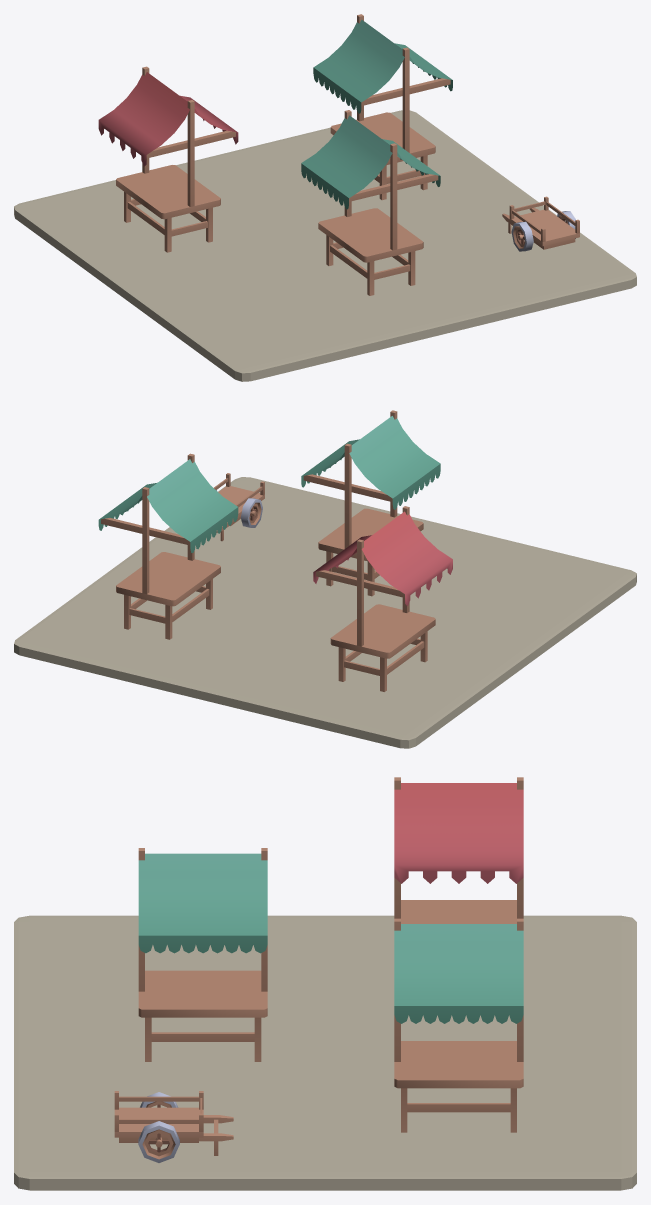
Rendered from market.glb.
3 views of the same model, one above another, from view 1: azimuth 30°, elevation 25°; view 2: azimuth 150°, elevation 25°; view 3: azimuth 270°, elevation 25° (orthographic). The views are drawn at different scales.
Visible parts, largest first — view 1: market court, stall-green.002, stall-red.001, stall-green.001, cart.001, Group.003; view 2: market court, stall-green.001, stall-red.001, stall-green.002, cart.001, Group.003; view 3: market court, stall-green.002, stall-green.001, stall-red.001, cart.001, Group.002.
Boxes of the visible parts, x1=… form: market court: x1=14, y1=110, x2=636, y2=381; stall-green.002: x1=301, y1=110, x2=440, y2=295; stall-red.001: x1=98, y1=66, x2=238, y2=252; stall-green.001: x1=313, y1=14, x2=452, y2=200; cart.001: x1=502, y1=196, x2=579, y2=249; Group.003: x1=511, y1=221, x2=533, y2=251; market court: x1=14, y1=477, x2=636, y2=748; stall-green.001: x1=98, y1=453, x2=238, y2=639; stall-red.001: x1=313, y1=506, x2=452, y2=691; stall-green.002: x1=301, y1=410, x2=440, y2=596; cart.001: x1=214, y1=473, x2=264, y2=541; Group.003: x1=240, y1=498, x2=262, y2=527; market court: x1=14, y1=915, x2=636, y2=1190; stall-green.002: x1=138, y1=848, x2=267, y2=1061; stall-green.001: x1=394, y1=918, x2=523, y2=1132; stall-red.001: x1=394, y1=777, x2=523, y2=923; cart.001: x1=114, y1=1091, x2=233, y2=1155; Group.002: x1=138, y1=1121, x2=179, y2=1162.
Bounding box in the file's own units: 2.8 × 1.04 × 2.8.
